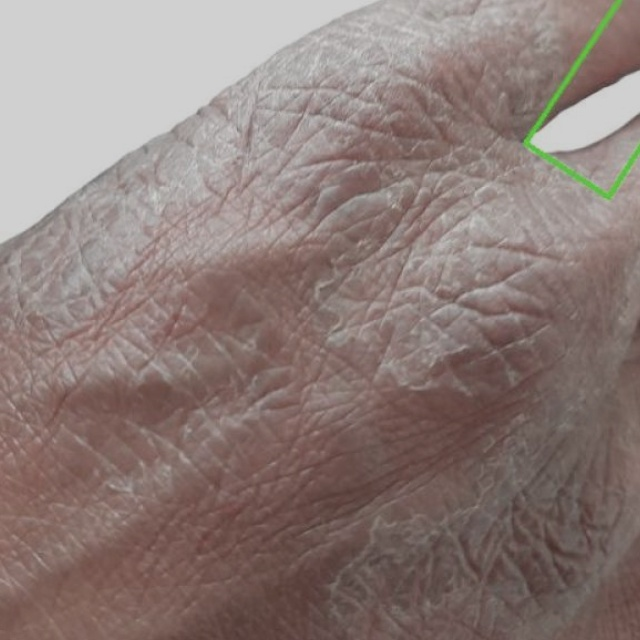Contact Dermatitis: (516, 0, 639, 197)
